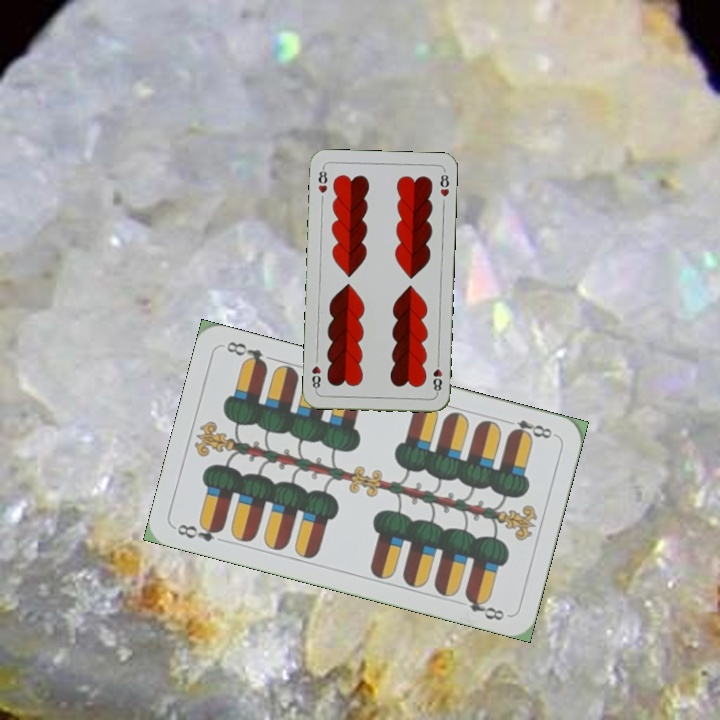E8: (500, 415, 555, 442), (173, 518, 226, 544)
H8: (429, 356, 444, 396), (314, 164, 330, 196)
